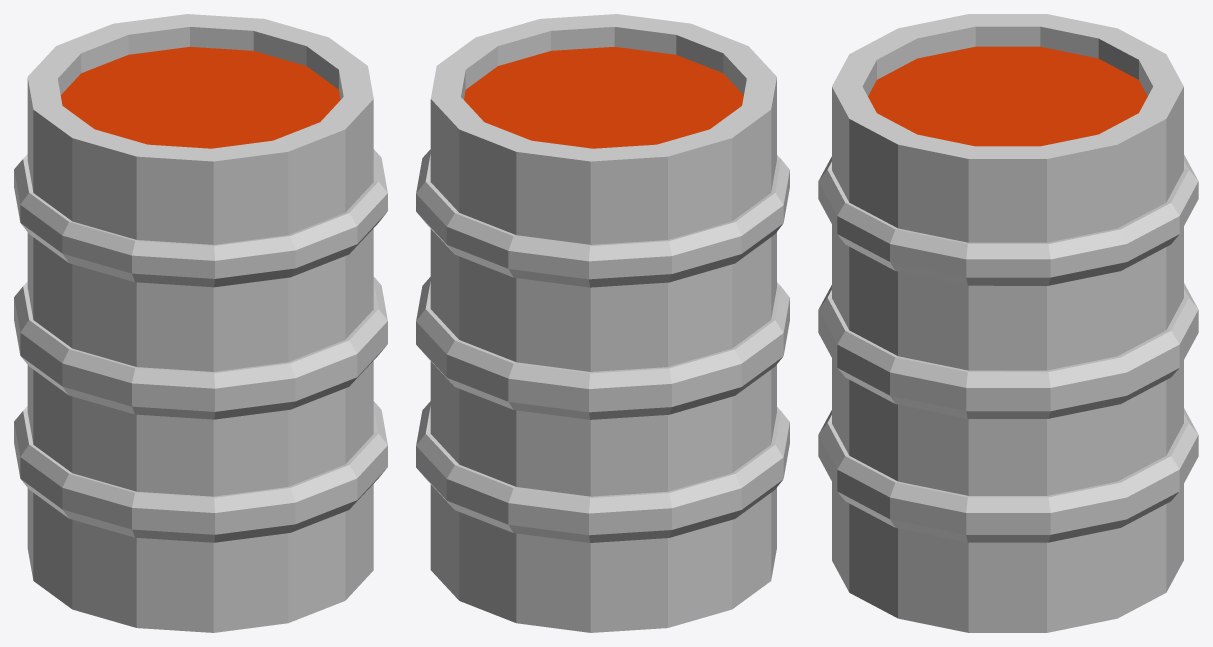
Rendered from NewBarrelExplosive_1.fbx.
3 renders of one model, left to right at view 1: azimuth 30°, elevation 25°; view 2: azimuth 150°, elevation 25°; view 3: azimuth 270°, elevation 25°, orthographic.
Parts seen in each view (by area): view 1: Cylinder; view 2: Cylinder; view 3: Cylinder.
Part boxes in pixels (box(x1,y1,x2,y2)): Cylinder: box(14, 14, 387, 632); Cylinder: box(416, 14, 789, 632); Cylinder: box(818, 14, 1198, 632).
Size of the model in its own units: 155 by 219 by 159.
